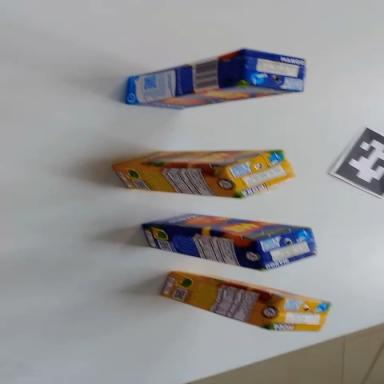HIT-MANGO: (119, 40, 309, 116), (138, 208, 319, 276)
HIT-MORA: (158, 265, 331, 341), (112, 148, 294, 198)
cara_F: (141, 207, 308, 248), (132, 76, 302, 116), (171, 267, 330, 309), (113, 149, 279, 168)
